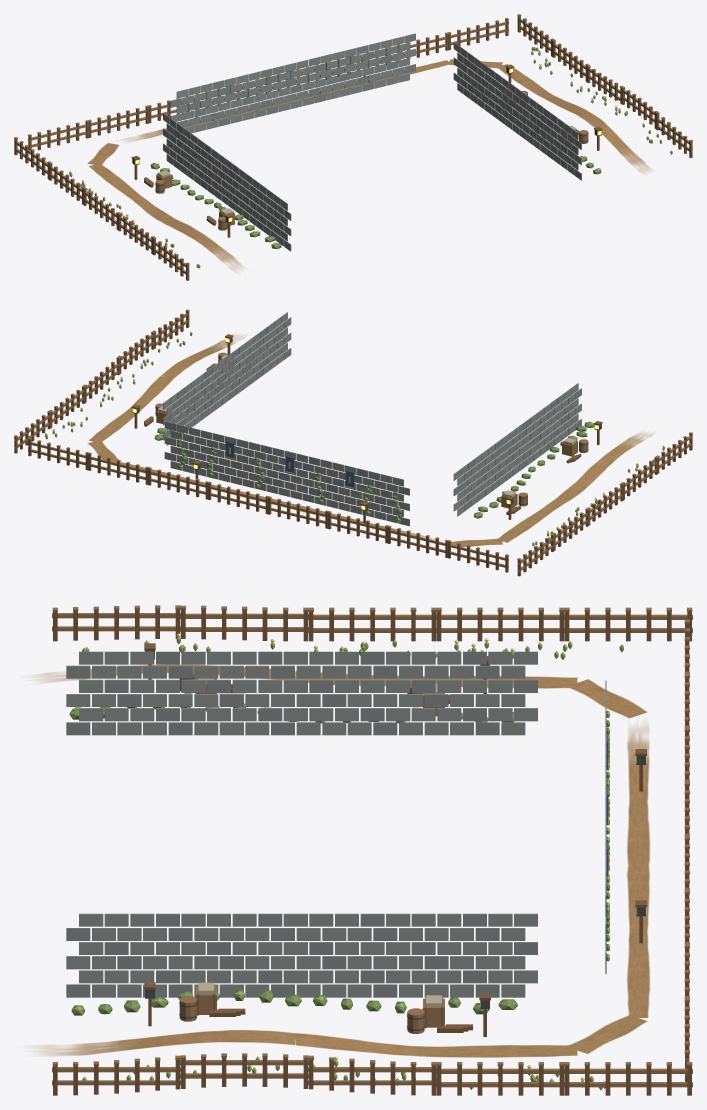
File: castle-outskirts.glb
The picture shows the model from 3 angles, top to bottom: view 1: azimuth 30°, elevation 25°; view 2: azimuth 150°, elevation 25°; view 3: azimuth 270°, elevation 25°; orthographic projection. The views are drawn at different scales.
Visible parts, largest first — view 1: outskirts-Outer-masonry, outskirts-Weathered-oak, outskirts-Outer-masonry-variation, outskirts-Oak-highlights, outskirts-Path-earth, outskirts-Shrub-green, outskirts-Leaf-tips; view 2: outskirts-Outer-masonry, outskirts-Weathered-oak, outskirts-Oak-highlights, outskirts-Outer-masonry-variation, outskirts-Path-earth, outskirts-Shrub-green, outskirts-Leaf-tips, outskirts-Castle-blue; view 3: outskirts-Outer-masonry, outskirts-Outer-masonry-variation, outskirts-Oak-highlights, outskirts-Path-earth, outskirts-Weathered-oak, outskirts-Shrub-green, outskirts-Leaf-tips.
Part boxes in pixels (x1,y1,x2,y2): outskirts-Outer-masonry: (163, 36, 581, 246); outskirts-Weathered-oak: (14, 16, 692, 280); outskirts-Outer-masonry-variation: (163, 33, 581, 251); outskirts-Oak-highlights: (14, 14, 692, 275); outskirts-Path-earth: (87, 59, 651, 271); outskirts-Shrub-green: (150, 59, 601, 249); outskirts-Leaf-tips: (46, 47, 672, 268); outskirts-Outer-masonry: (163, 312, 581, 523); outskirts-Weathered-oak: (14, 311, 692, 576); outskirts-Oak-highlights: (14, 309, 692, 572); outskirts-Outer-masonry-variation: (163, 317, 581, 526); outskirts-Path-earth: (87, 335, 653, 546); outskirts-Shrub-green: (154, 349, 594, 518); outskirts-Leaf-tips: (45, 332, 664, 550); outskirts-Castle-blue: (225, 441, 354, 487); outskirts-Outer-masonry: (66, 651, 606, 997); outskirts-Outer-masonry-variation: (66, 651, 606, 997); outskirts-Oak-highlights: (52, 605, 692, 1087); outskirts-Path-earth: (34, 664, 650, 1057); outskirts-Weathered-oak: (53, 609, 691, 1095); outskirts-Shrub-green: (69, 703, 609, 1015); outskirts-Leaf-tips: (73, 637, 623, 1089).
Size of the model in its own units: 42.21 by 3.71 by 26.54.
Materials: 13 (1 with a texture image).
